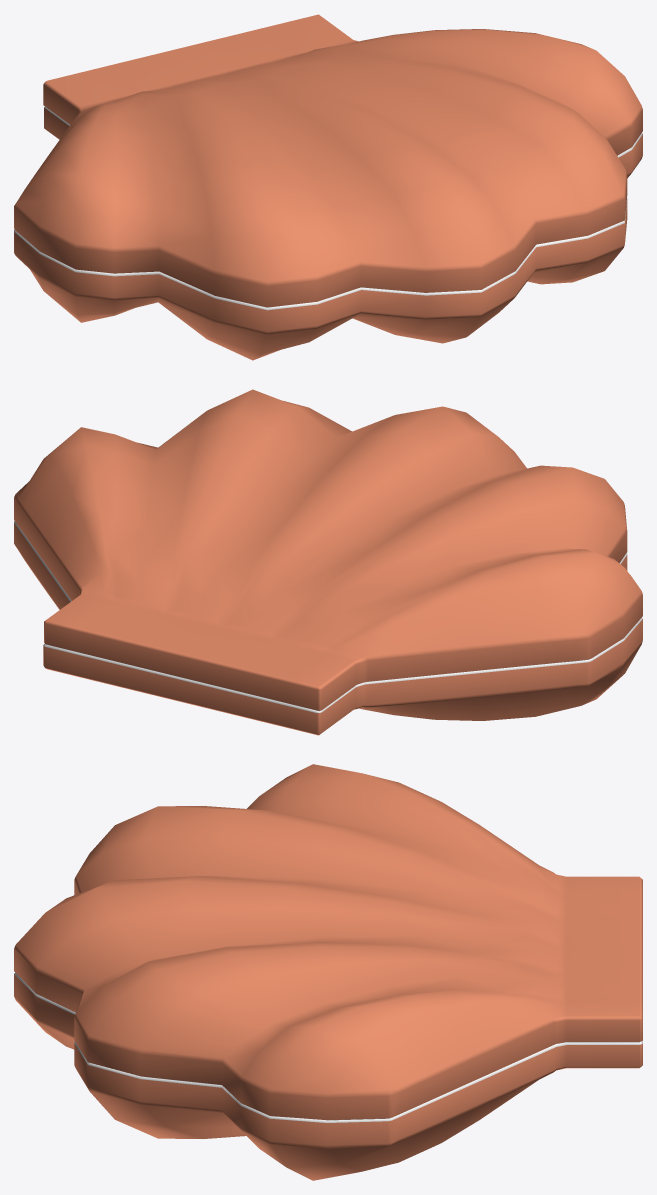
Rendered from Scallops_Closed.fbx.
3 views of the same model, one above another, from view 1: azimuth 30°, elevation 25°; view 2: azimuth 150°, elevation 25°; view 3: azimuth 270°, elevation 25° (orthographic). The views are drawn at different scales.
Parts seen in each view (by area): view 1: Scallops_Closed; view 2: Scallops_Closed; view 3: Scallops_Closed.
Boxes of the visible parts, x1,y1,x2,y2 form: Scallops_Closed: (14, 14, 642, 360); Scallops_Closed: (14, 389, 642, 735); Scallops_Closed: (14, 764, 642, 1180).
Size of the model in its own units: 8.08 by 2.3 by 7.2.
